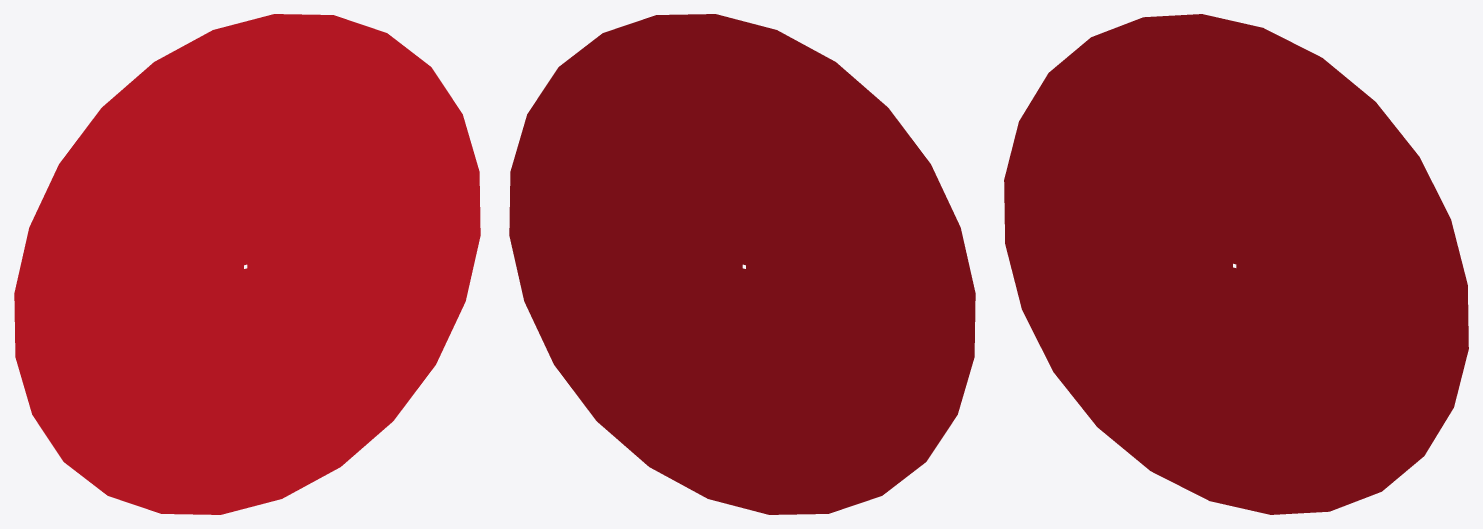
File: original-31.obj
The picture shows the model from 3 angles, left to right: view 1: azimuth 30°, elevation 25°; view 2: azimuth 150°, elevation 25°; view 3: azimuth 330°, elevation 25°; orthographic projection.
Parts seen in each view (by area): view 1: #ID194; view 2: #ID194; view 3: #ID194.
Boxes of the visible parts, box(x1,y1,x2,y2) form: #ID194: box(14, 14, 480, 514); #ID194: box(509, 14, 975, 514); #ID194: box(1004, 14, 1468, 514).
Bounding box in the file's own units: 0.1026 × 0.1026 × 0.
